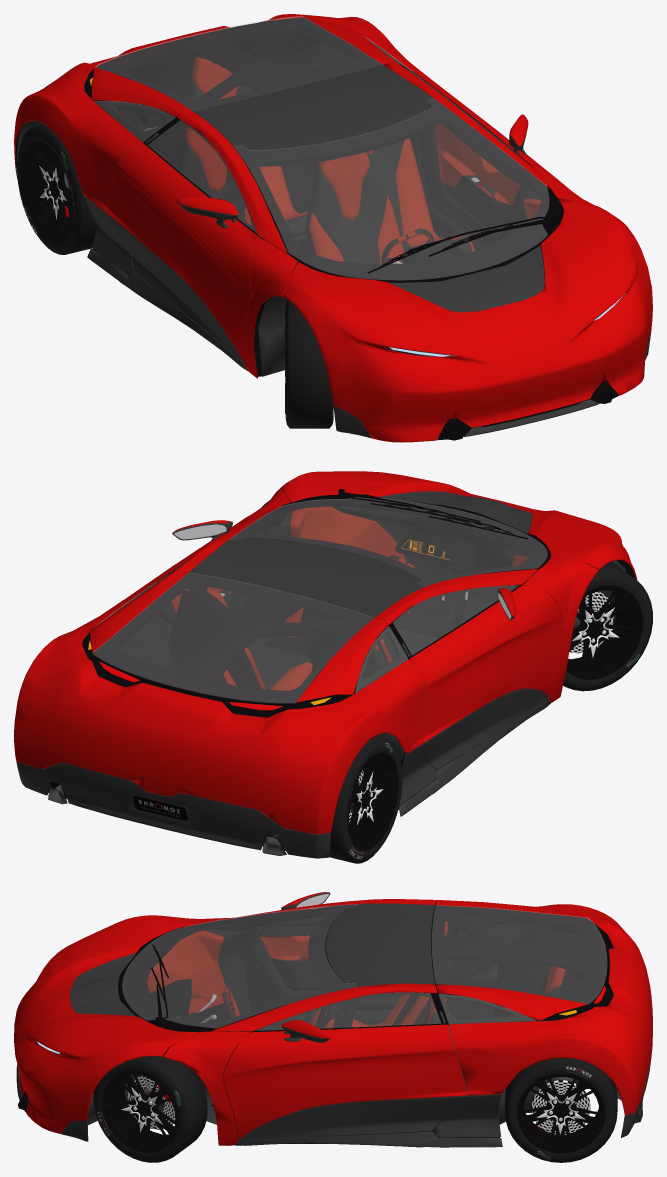
The model's file is concept-gt.glb.
The picture shows the model from 3 angles, top to bottom: view 1: azimuth 30°, elevation 25°; view 2: azimuth 150°, elevation 25°; view 3: azimuth 270°, elevation 25°; orthographic projection. The views are drawn at different scales.
Parts seen in each view (by area): view 1: BodyHood, BodyWindshield, BodyRearwindow, BodyDoorRColor1, BodyRearPanelsColor1, BodyRoofPanel, BodyWindshieldGasket, InteriorSeatsColor1, InteriorSeatsColor2, BodyPillars, InteriorPillar, InteriorRearHatch (+22 smaller); view 2: BodyRearPanelsColor1, BodyRearwindow, BodyWindshield, BodyDoorRColor1, BodyPanelsColor2, BodyRoofPanel, BodyHood, InteriorRearHatch, BodyPillars, InteriorPillar, BodyWindshieldGasket, InteriorDashMid (+22 smaller); view 3: BodyRearPanelsColor1, BodyWindshield, BodyDoorLColor1, BodyHood, BodyRearwindow, BodyRoofPanel, BodyPillars, BodyWindshieldGasket, BodyDoorLColor2, BodyPanelsColor2, WheelFrontL, InteriorRearHatch (+25 smaller).
Part boxes in pixels (x1=…): BodyHood: x1=283, y1=198, x2=652, y2=442; BodyWindshield: x1=234, y1=98, x2=549, y2=280; BodyRearwindow: x1=95, y1=16, x2=382, y2=110; BodyDoorRColor1: x1=104, y1=143, x2=257, y2=362; BodyRearPanelsColor1: x1=14, y1=14, x2=430, y2=210; BodyRoofPanel: x1=193, y1=65, x2=432, y2=150; BodyWindshieldGasket: x1=234, y1=99, x2=563, y2=282; InteriorSeatsColor1: x1=185, y1=57, x2=475, y2=264; InteriorSeatsColor2: x1=180, y1=78, x2=472, y2=264; BodyPillars: x1=176, y1=61, x2=599, y2=378; InteriorPillar: x1=158, y1=37, x2=434, y2=168; InteriorRearHatch: x1=93, y1=17, x2=382, y2=117; BodyRearPanelsColor1: x1=14, y1=569, x2=425, y2=834; BodyRearwindow: x1=92, y1=572, x2=373, y2=703; BodyWindshield: x1=229, y1=497, x2=547, y2=586; BodyDoorRColor1: x1=409, y1=585, x2=562, y2=742; BodyPanelsColor2: x1=16, y1=700, x2=550, y2=858; BodyRoofPanel: x1=189, y1=537, x2=422, y2=617; BodyHood: x1=277, y1=471, x2=637, y2=579; InteriorRearHatch: x1=93, y1=573, x2=384, y2=707; BodyPillars: x1=175, y1=489, x2=598, y2=702; InteriorPillar: x1=174, y1=574, x2=417, y2=682; BodyWindshieldGasket: x1=230, y1=497, x2=550, y2=587; InteriorDashMid: x1=331, y1=503, x2=528, y2=622; BodyRearPanelsColor1: x1=436, y1=900, x2=652, y2=1115; BodyWindshield: x1=122, y1=904, x2=357, y2=1028; BodyDoorLColor1: x1=222, y1=1024, x2=467, y2=1139; BodyHood: x1=14, y1=915, x2=196, y2=1133; BodyRearwindow: x1=432, y1=905, x2=606, y2=1003; BodyRoofPanel: x1=326, y1=903, x2=434, y2=986; BodyPillars: x1=163, y1=899, x2=437, y2=1145; BodyWindshieldGasket: x1=118, y1=905, x2=357, y2=1032; BodyDoorLColor2: x1=240, y1=1096, x2=466, y2=1140; BodyPanelsColor2: x1=16, y1=1053, x2=651, y2=1147; WheelFrontL: x1=93, y1=1054, x2=207, y2=1162; InteriorRearHatch: x1=431, y1=905, x2=606, y2=1020.
Size of the model in its own units: 2.54 by 1.15 by 4.36.
Materials: 23 (6 with a texture image).
